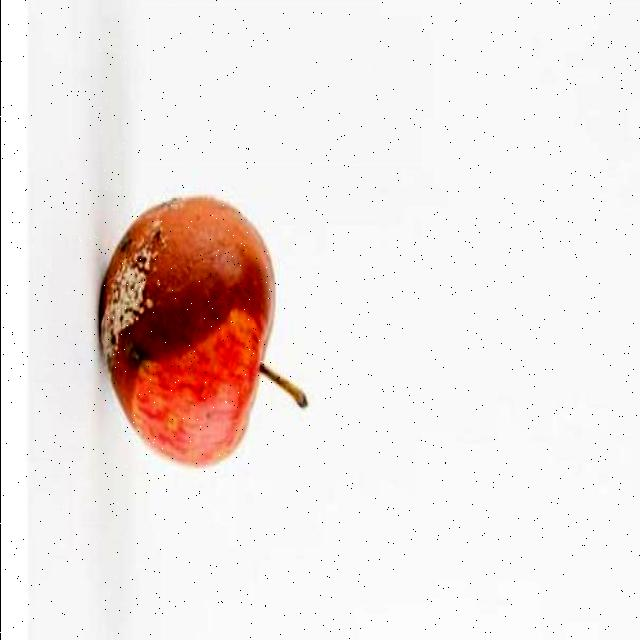ROT: (92, 170, 314, 504)
